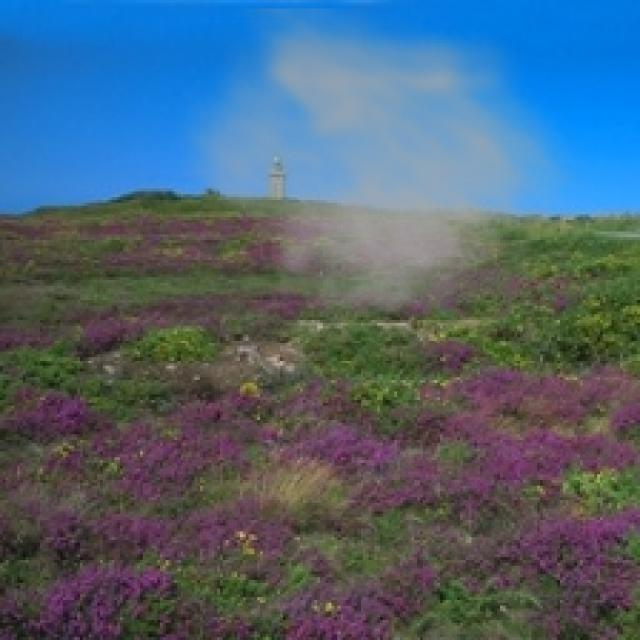Smoke: (166, 9, 588, 352)
